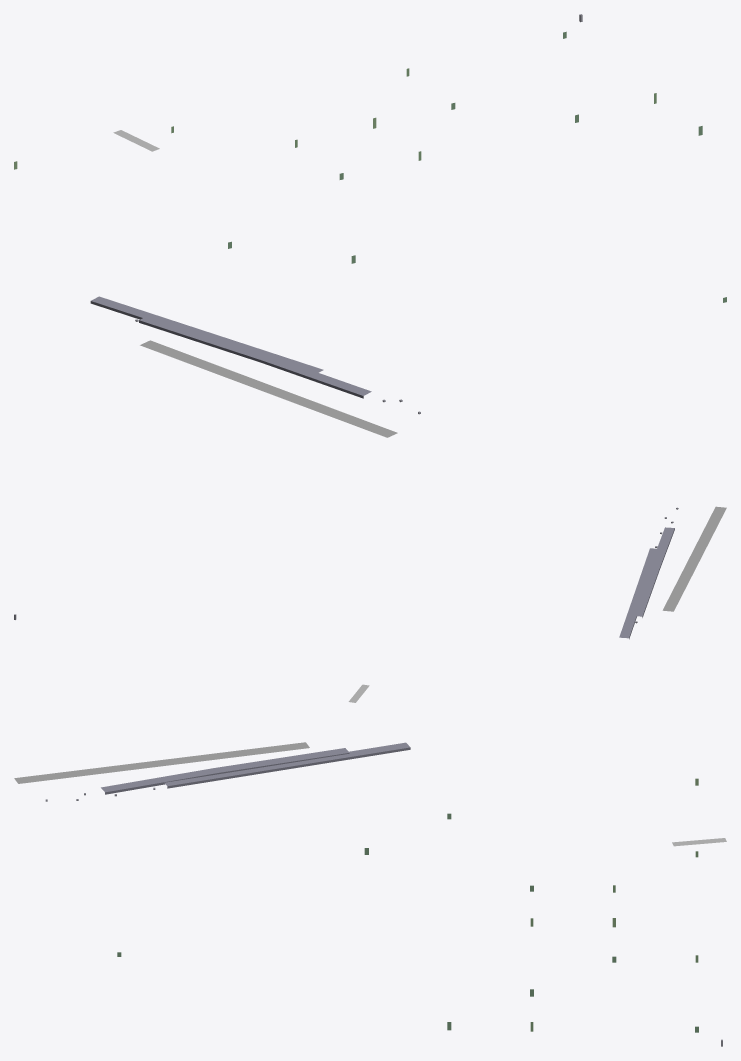
3 renders of one model, top to bottom at view 1: azimuth 30°, elevation 25°; view 2: azimuth 150°, elevation 25°; view 3: azimuth 270°, elevation 25°, orthographic. The views are drawn at different scales.
Size of the model in its own units: 513 by 9.18 by 518.
